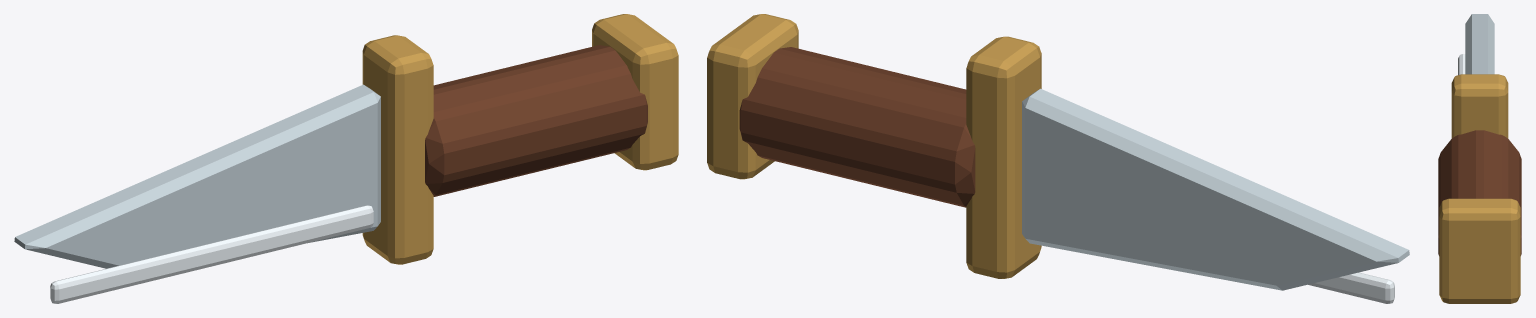
Rendered from knife.glb.
3 renders of one model, left to right at view 1: azimuth 30°, elevation 25°; view 2: azimuth 150°, elevation 25°; view 3: azimuth 270°, elevation 25°, orthographic. The views are drawn at different scales.
Parts seen in each view (by area): view 1: Knife blade, Knife leather handle, Knife guard, Knife cutting edge, Knife pommel; view 2: Knife blade, Knife leather handle, Knife guard, Knife pommel, Knife cutting edge; view 3: Knife pommel, Knife leather handle, Knife guard, Knife blade, Knife cutting edge.
Boxes of the visible parts, x1,y1,x2,y2 form: Knife blade: (14,84,380,268); Knife leather handle: (425,45,647,196); Knife guard: (362,35,433,264); Knife cutting edge: (50,205,373,303); Knife pommel: (592,14,678,170); Knife blade: (1022,88,1409,290); Knife leather handle: (739,47,975,207); Knife guard: (966,36,1041,278); Knife pommel: (707,14,798,179); Knife cutting edge: (1308,272,1394,303); Knife pommel: (1439,198,1520,303); Knife leather handle: (1438,130,1521,255); Knife guard: (1451,74,1508,138); Knife blade: (1465,14,1494,74); Knife cutting edge: (1458,54,1465,74).
Bounding box in the file's own units: 0.7127 × 0.22 × 0.1026.
